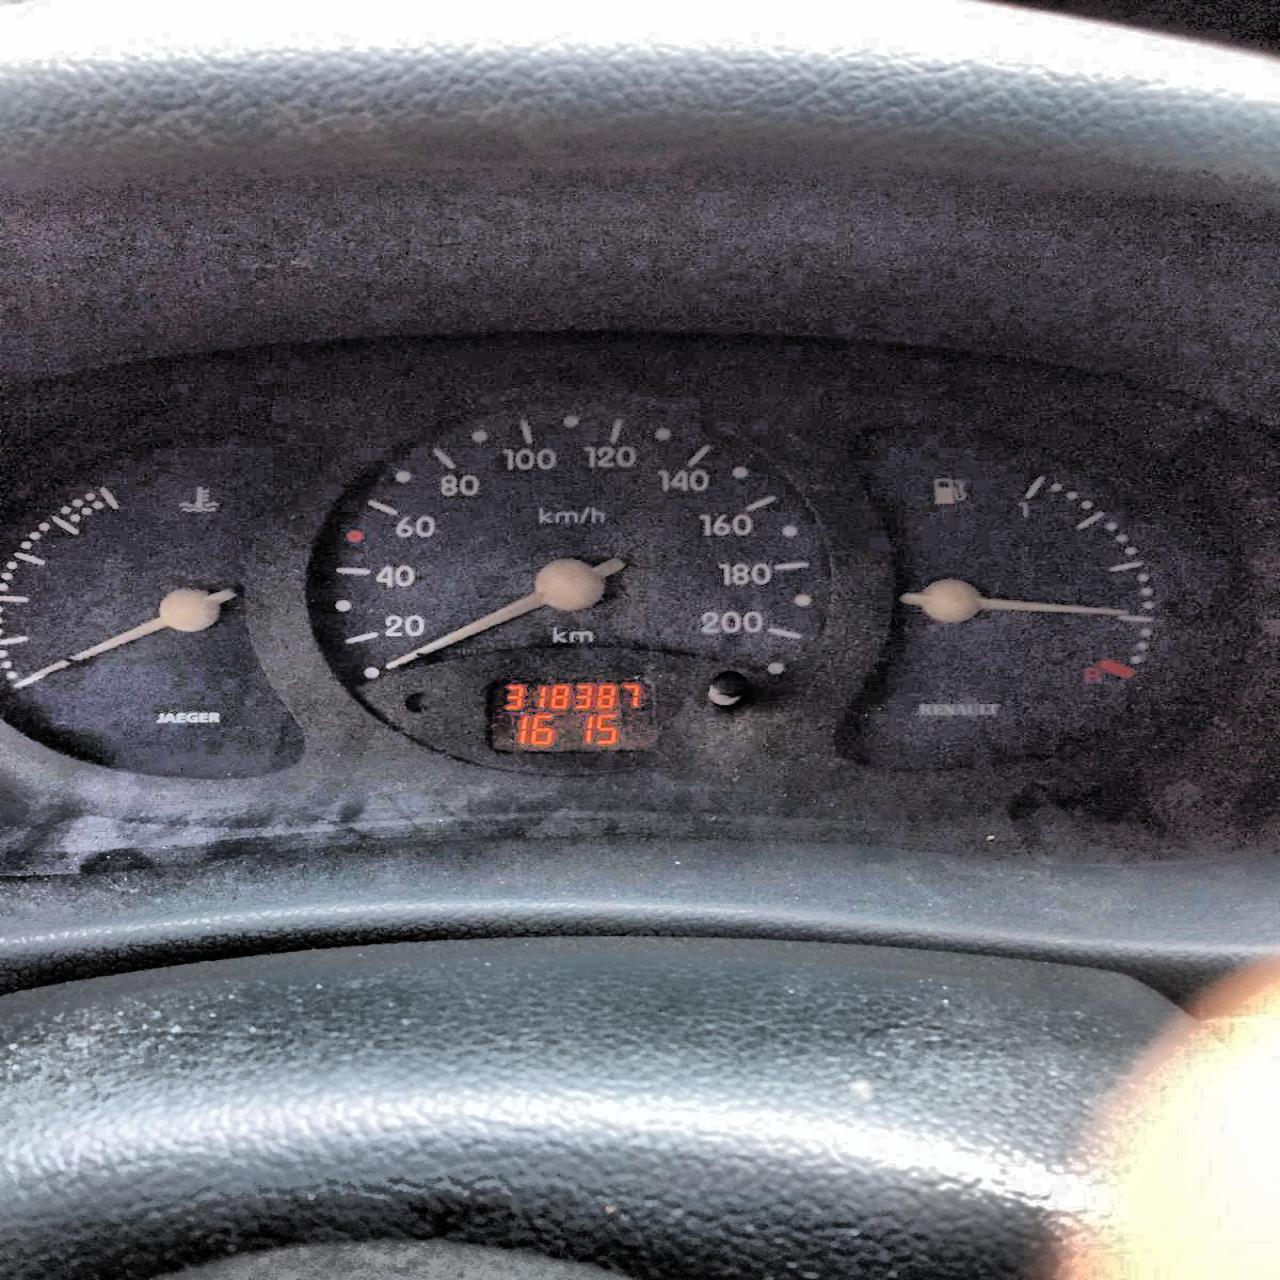1: (584, 715, 593, 742), (518, 715, 526, 742), (538, 686, 545, 707)
3: (504, 685, 524, 709), (574, 685, 591, 708)
5: (595, 714, 617, 743)
6: (530, 714, 553, 744)
7: (622, 683, 639, 707)
8: (595, 683, 614, 708), (550, 685, 568, 708)
odometer: (481, 676, 656, 755)
